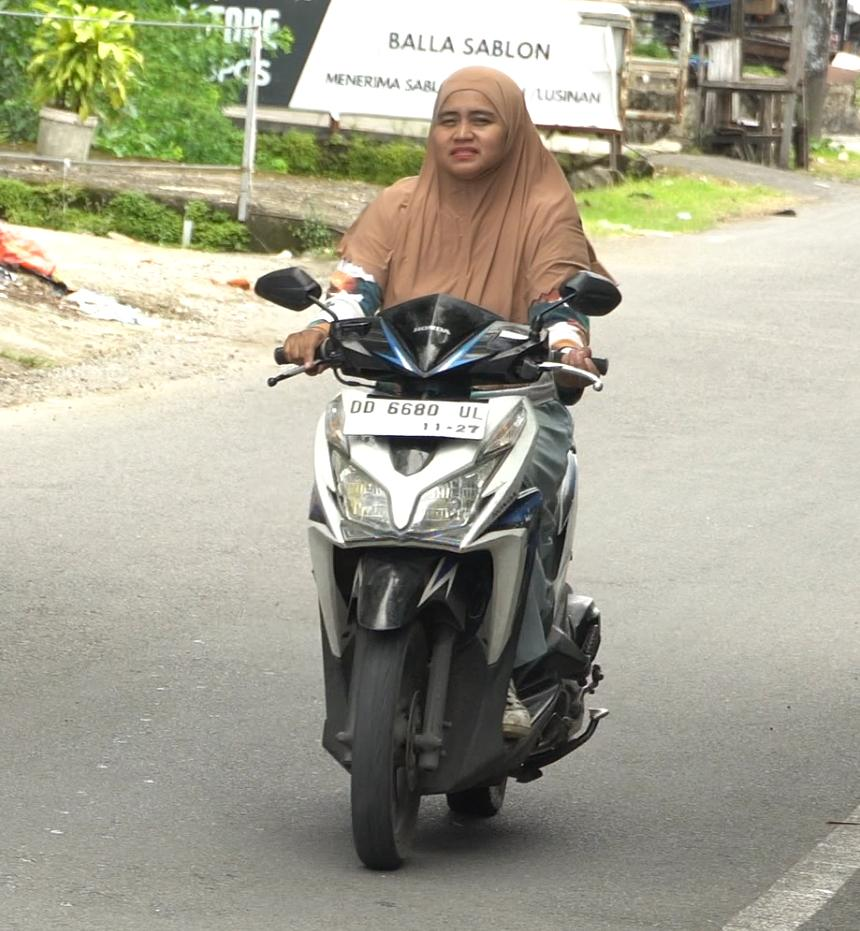number-plate: (338, 395, 497, 443)
